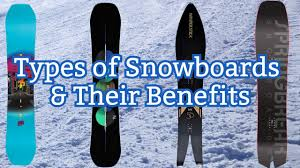snowboard: (2, 1, 39, 168), (255, 1, 292, 168), (172, 3, 207, 168), (88, 2, 122, 168)
